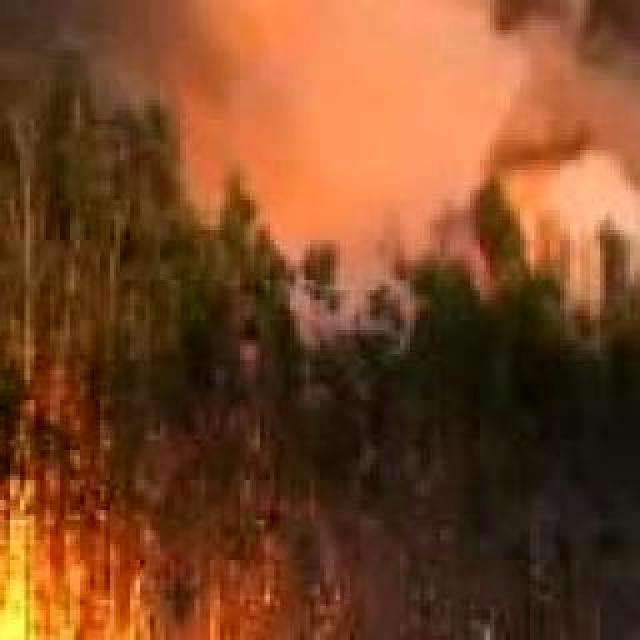fire: (0, 528, 312, 640)
